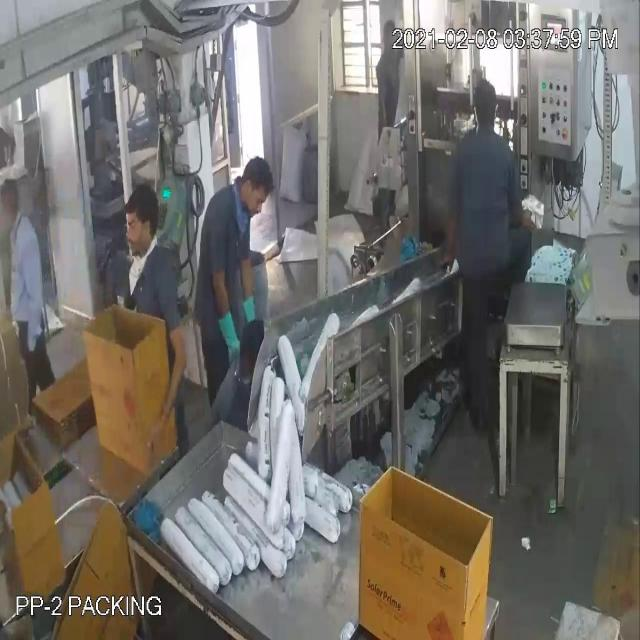Gloves: (27, 63, 250, 384)
